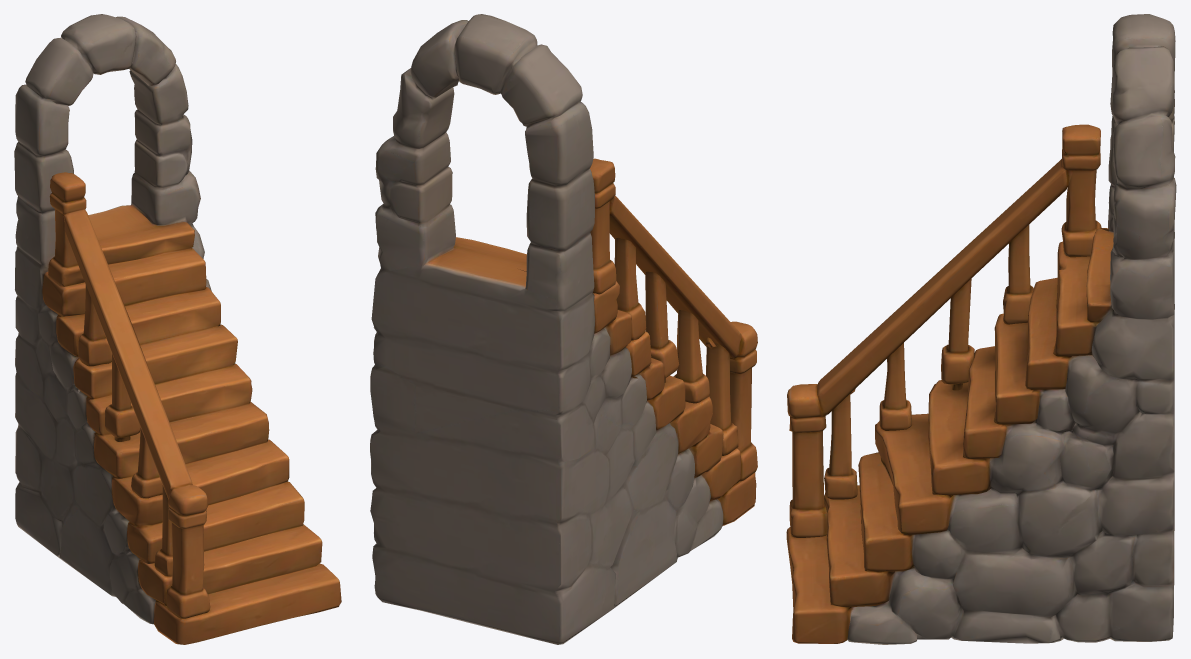
File: atelier_escalier.glb
The picture shows the model from 3 angles, left to right: view 1: azimuth 30°, elevation 25°; view 2: azimuth 150°, elevation 25°; view 3: azimuth 270°, elevation 25°; orthographic projection. The views are drawn at different scales.
Visible parts, largest first — view 1: geometry_0; view 2: geometry_0; view 3: geometry_0.
Part boxes in pixels (box(x1,y1,x2,y2)): geometry_0: box(14, 14, 341, 644); geometry_0: box(370, 14, 757, 644); geometry_0: box(786, 14, 1176, 644).
Size of the model in its own units: 0.3344 by 0.9512 by 0.5879.
Materials: 1 (1 with a texture image).
